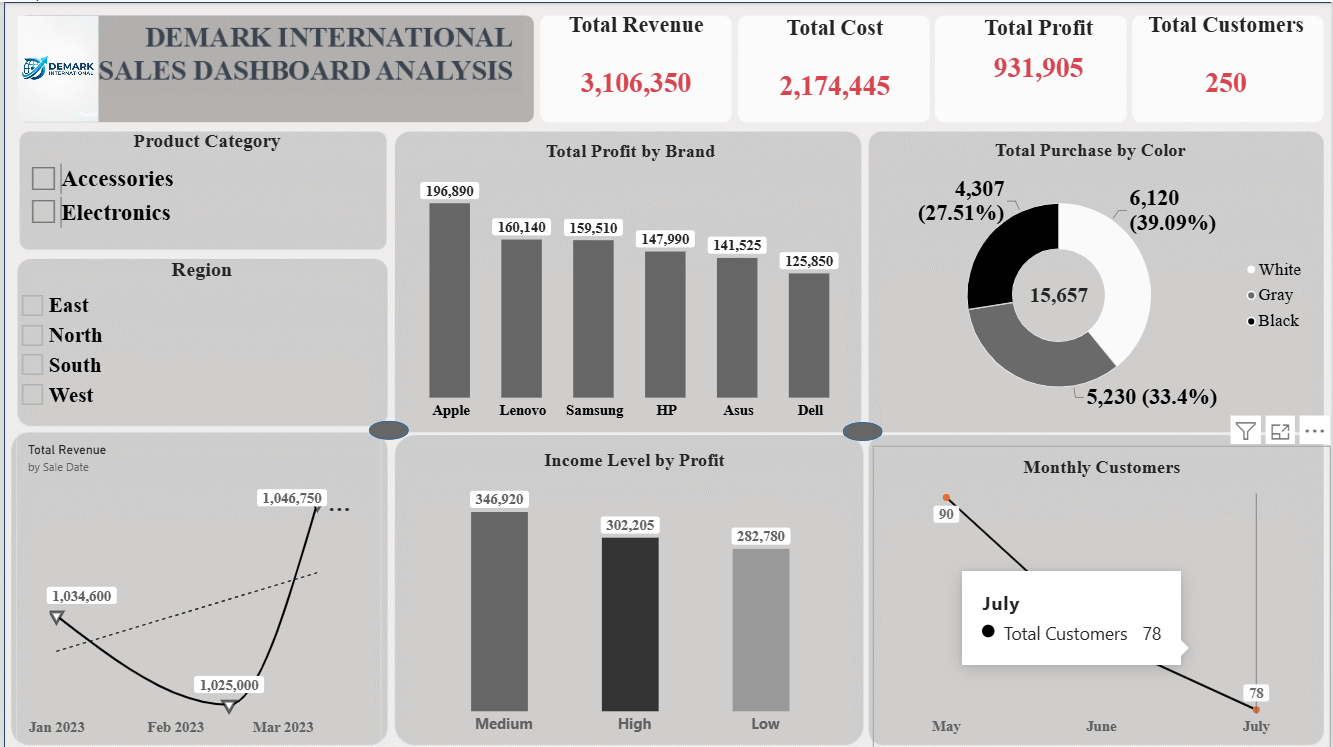

What the dashboard file says about the page in this screenshot:
{"tool":"powerbi","page":{"name":"TS DASHBOARD","canvas":[1920,1080],"ordinal":2},"visuals":[{"type":"cardVisual","title":"Total Revenue","fields":{"Data":["Sales.Total Revenue"]},"box":[779.1,15.1,270.5,153.7],"z":0},{"type":"cardVisual","title":"Total Cost","fields":{"Data":["Sales.Total Cost"]},"box":[1066.9,17.3,270.5,153.7],"z":1000},{"type":"cardVisual","title":"Total Profit","fields":{"Data":["Sales.Total Profit"]},"box":[1363.4,17.3,270.5,153.7],"z":2000},{"type":"cardVisual","title":"Total Customers","fields":{"Data":["Sales.Total Customers"]},"box":[1633.9,15.1,270.5,153.7],"z":3000},{"type":"slicer","title":"Region","fields":{"Values":["Customers.Region"]},"box":[18.4,368.7,536.9,230.4],"z":4000},{"type":"columnChart","fields":{"Category":["Products.Brand"],"Y":["Sales.Total Profit"]},"box":[571.3,186.1,670.9,435],"z":5000},{"type":"donutChart","fields":{"Category":["Products.Color"],"Y":["Sales.Total Purchase"]},"box":[1241.7,185.4,662.5,435.4],"z":6000},{"type":"lineChart","fields":{"Category":["Sales.Sale Date"],"Y":["Sales.Total Revenue"]},"box":[18.4,622.2,527.7,458.6],"z":7000},{"type":"lineChart","title":"Monthly Customers","fields":{"Category":["Customers.SignupDate.Variation.Date Hierarchy.Month"],"Y":["Sales.Total Customers"]},"box":[1258.2,642.9,662.2,437],"z":8000},{"type":"columnChart","title":"Income Level by Profit","fields":{"Category":["Customers.IncomeLevel"],"Y":["Sales.Total Profit"]},"box":[585.3,633.7,656.8,447.1],"z":9000},{"type":"shape","box":[1214.4,608.4,57.6,27.7],"z":10000},{"type":"shape","box":[527.7,606.1,57.6,27.7],"z":11000},{"type":"image","box":[19.5,19.5,116.9,153.7],"z":12000},{"type":"slicer","title":"Product Category","fields":{"Values":["Products.Category"]},"box":[33.3,185.4,522.9,166.7],"z":13000}]}

Visuals, with their boxes in screenshot pixels (x1, y1, x2, y2), scaled from the page's 1920x1080 canvas onto the 1333x747 screenshot:
"Total Revenue" cardVisual: 541, 10, 729, 117
"Total Cost" cardVisual: 741, 12, 929, 118
"Total Profit" cardVisual: 947, 12, 1134, 118
"Total Customers" cardVisual: 1134, 10, 1322, 117
"Region" slicer: 13, 255, 386, 414
columnChart - Products.Brand x Sales.Total Profit: 397, 129, 862, 430
donutChart - Products.Color x Sales.Total Purchase: 862, 128, 1322, 429
lineChart - Sales.Sale Date x Sales.Total Revenue: 13, 430, 379, 746
"Monthly Customers" lineChart: 874, 445, 1332, 746
"Income Level by Profit" columnChart: 406, 438, 862, 746
shape: 843, 421, 883, 440
shape: 366, 419, 406, 438
image: 14, 13, 95, 120
"Product Category" slicer: 23, 128, 386, 244
